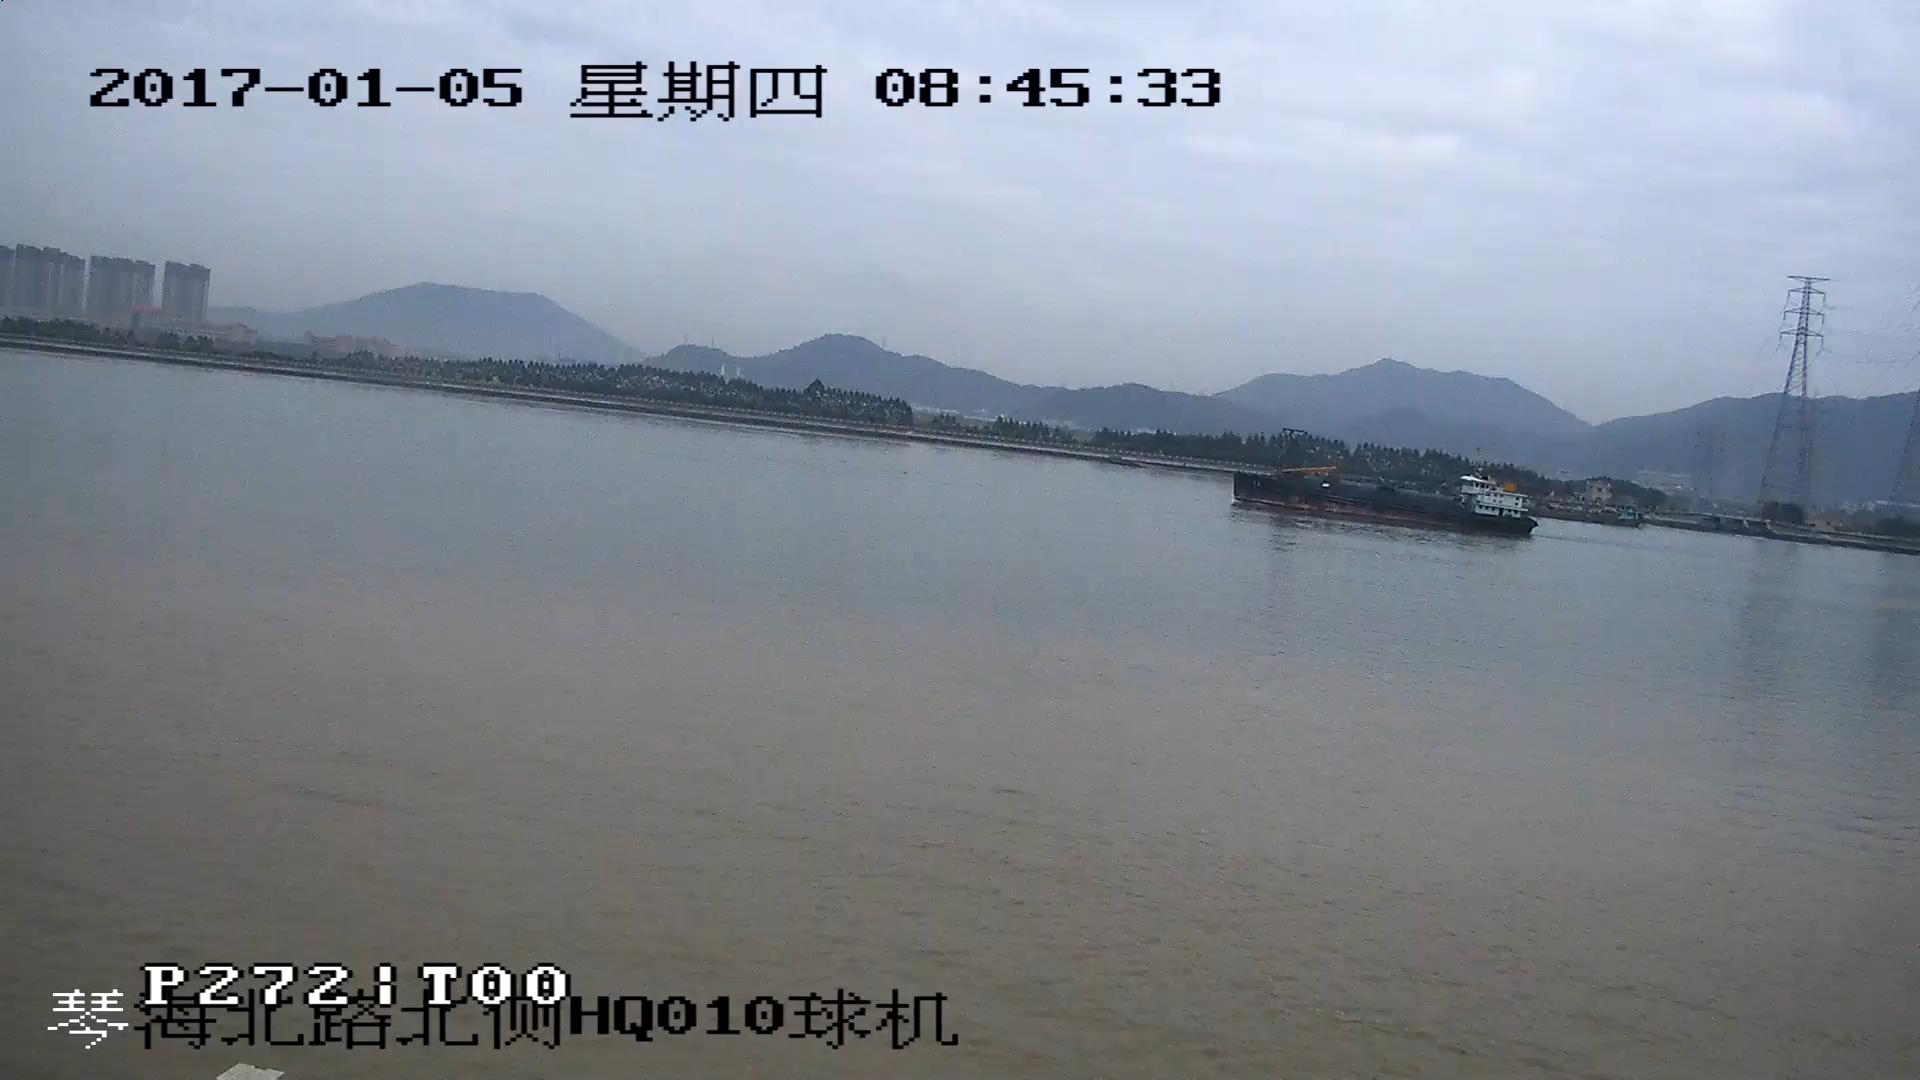bulk cargo carrier: (1233, 436, 1526, 531)
